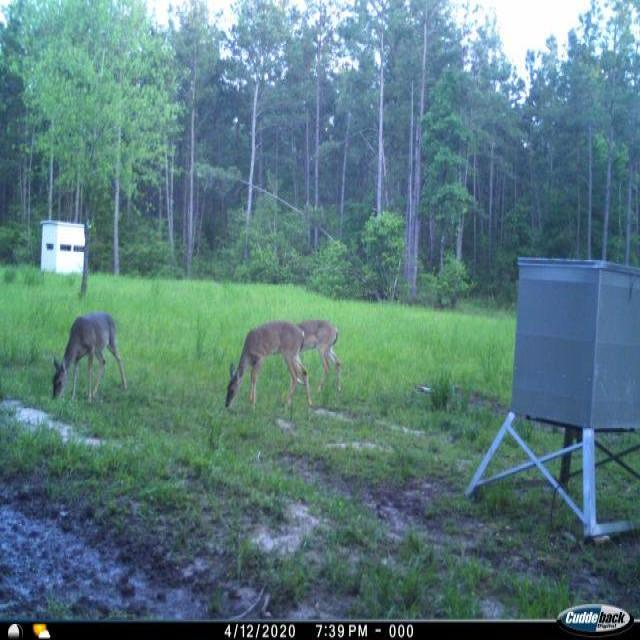deer: (220, 317, 312, 416), (46, 309, 130, 411), (299, 317, 347, 400)
